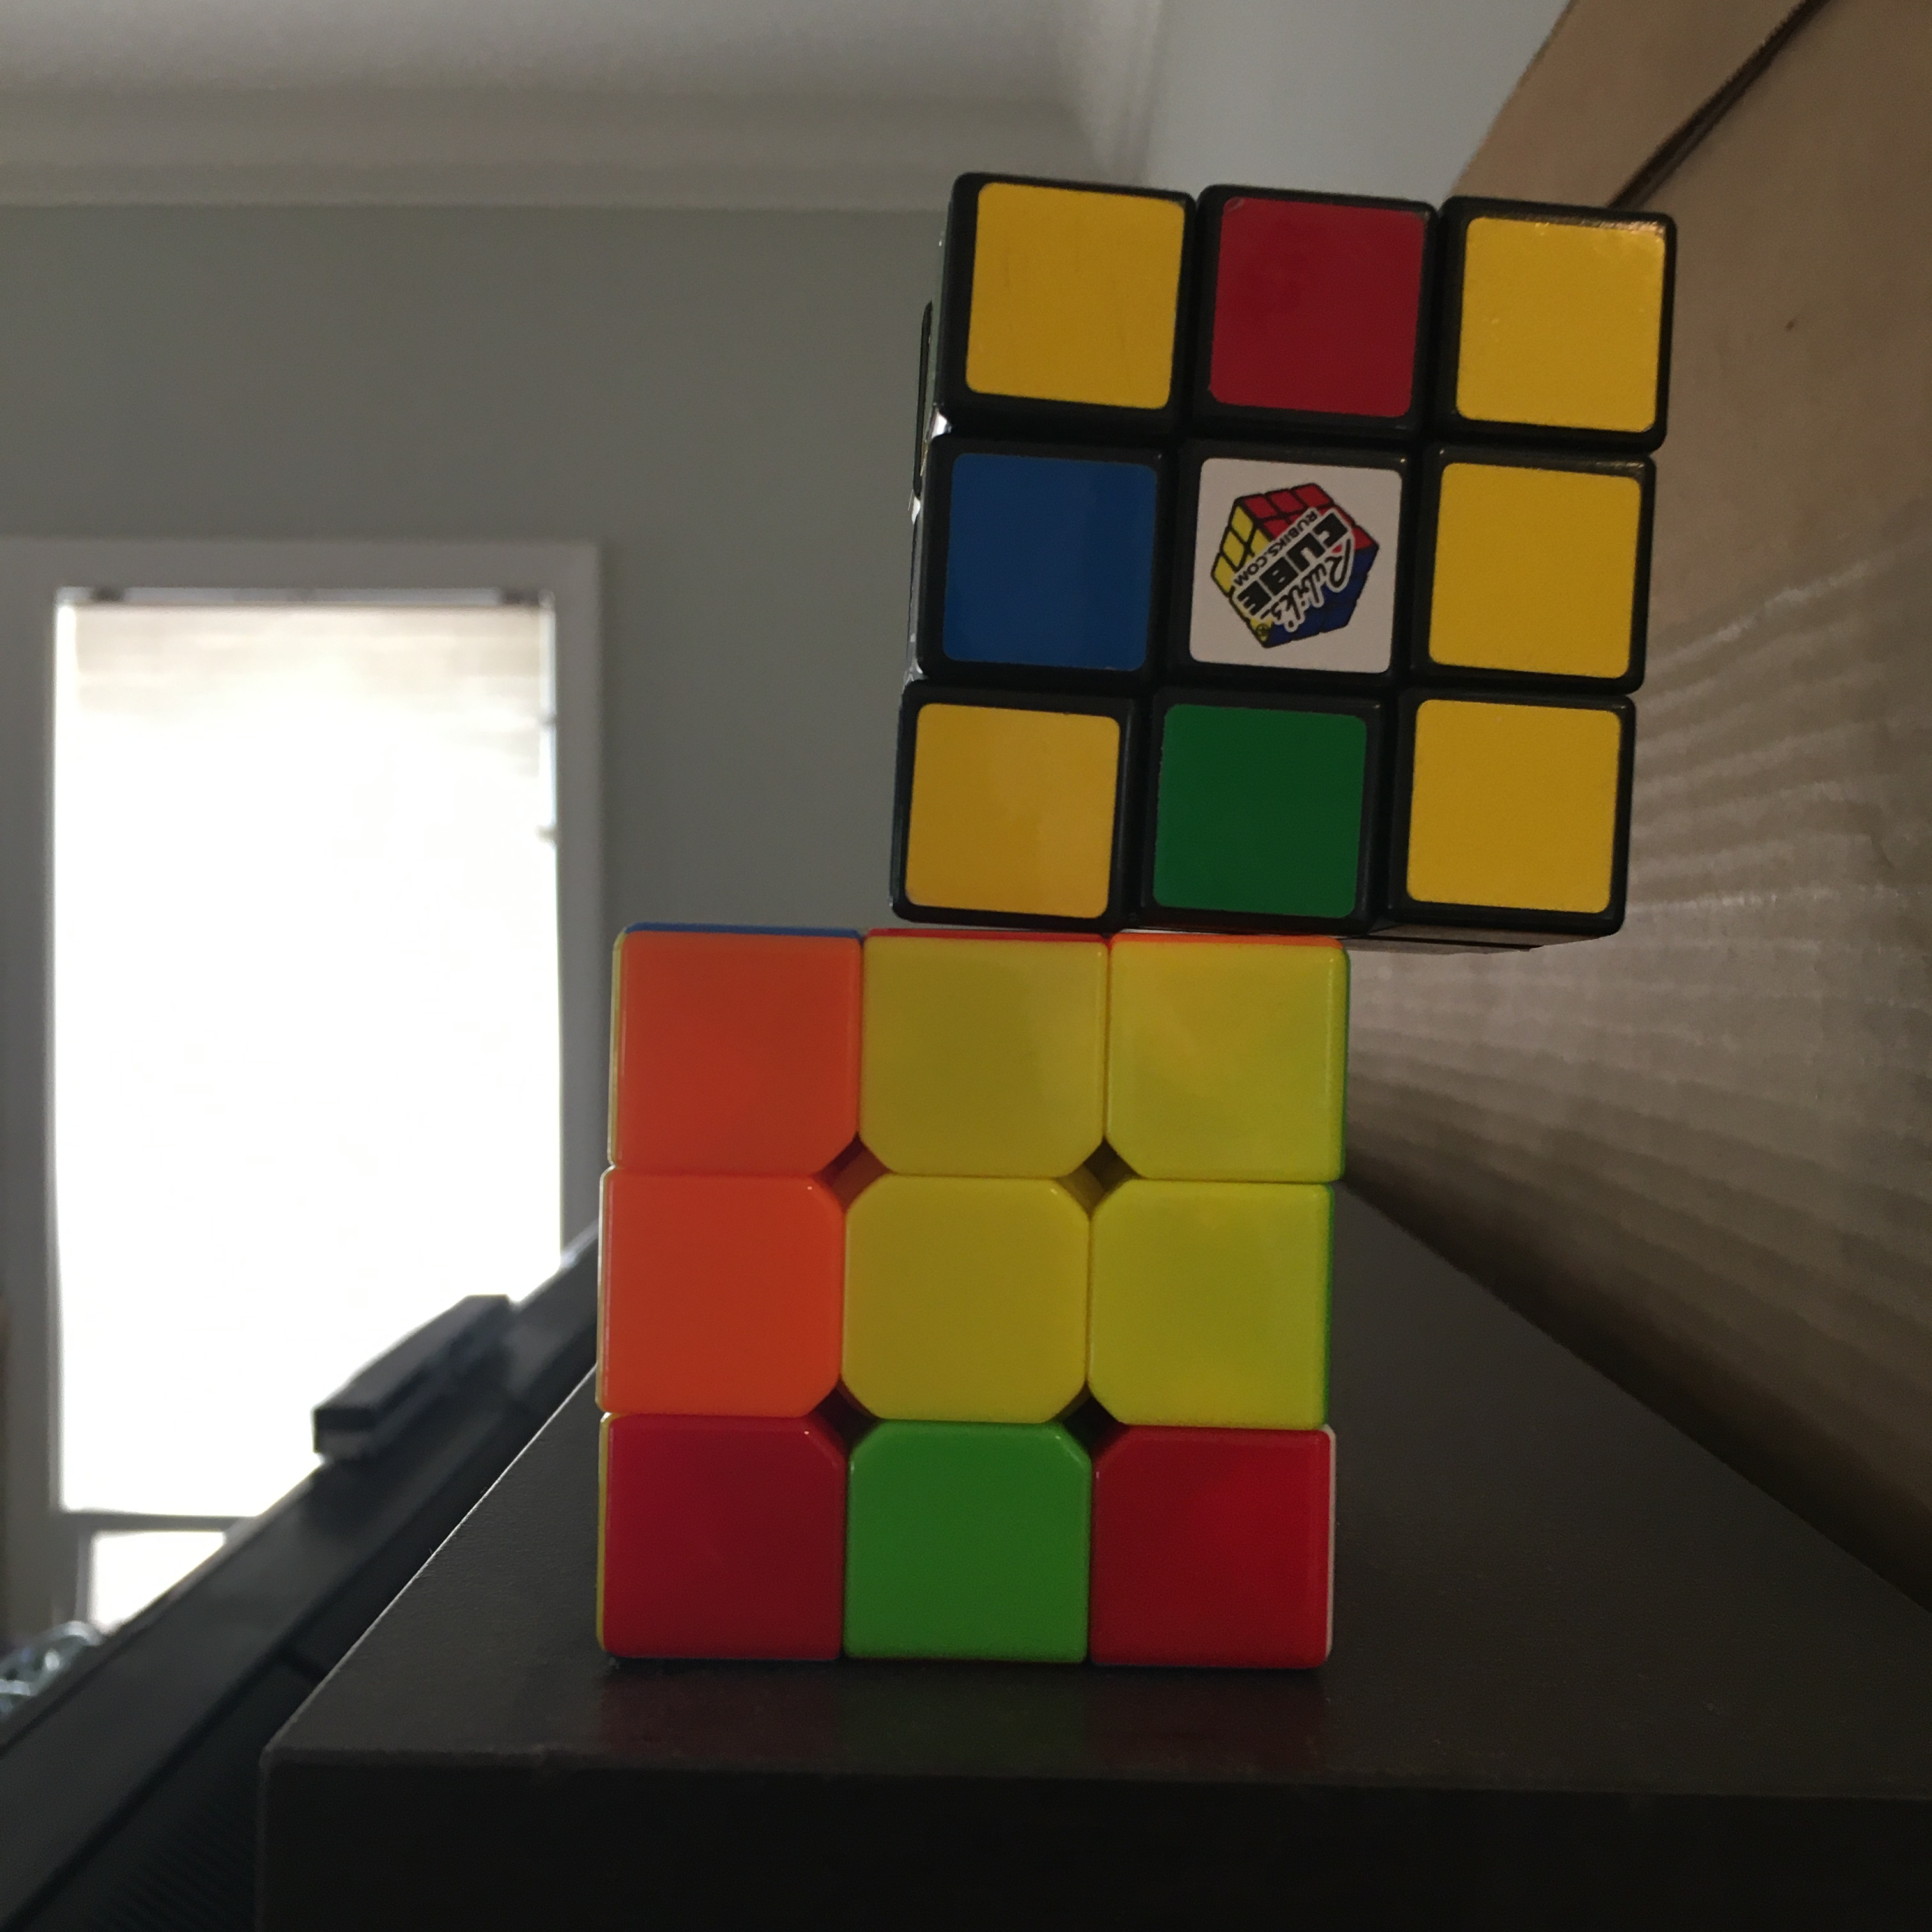face: (898, 176, 1676, 941), (590, 928, 1335, 1675)
